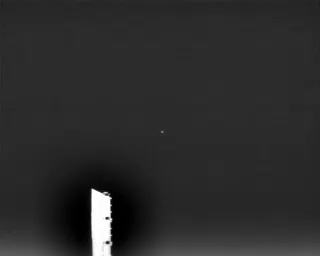BIRD: (159, 127, 166, 136)
